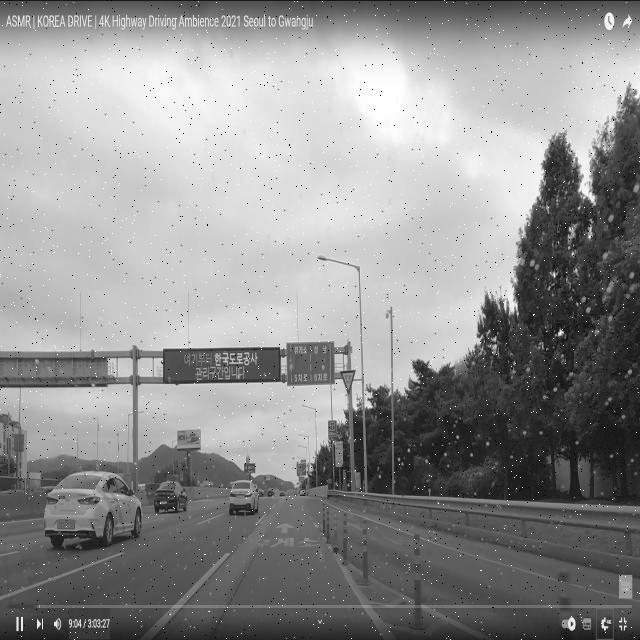forward: (237, 520, 326, 538)
